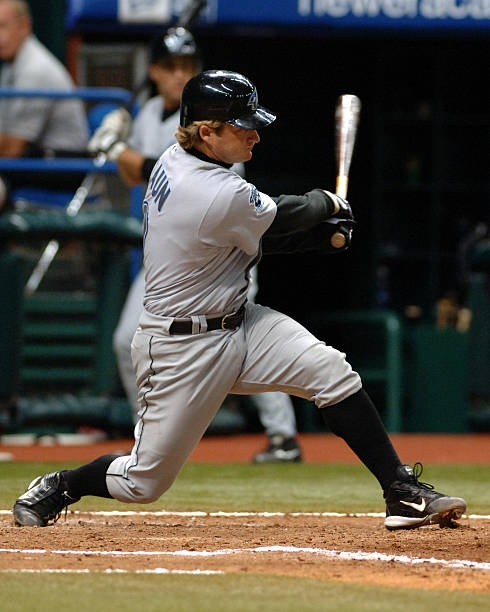bita: (329, 92, 369, 244)
